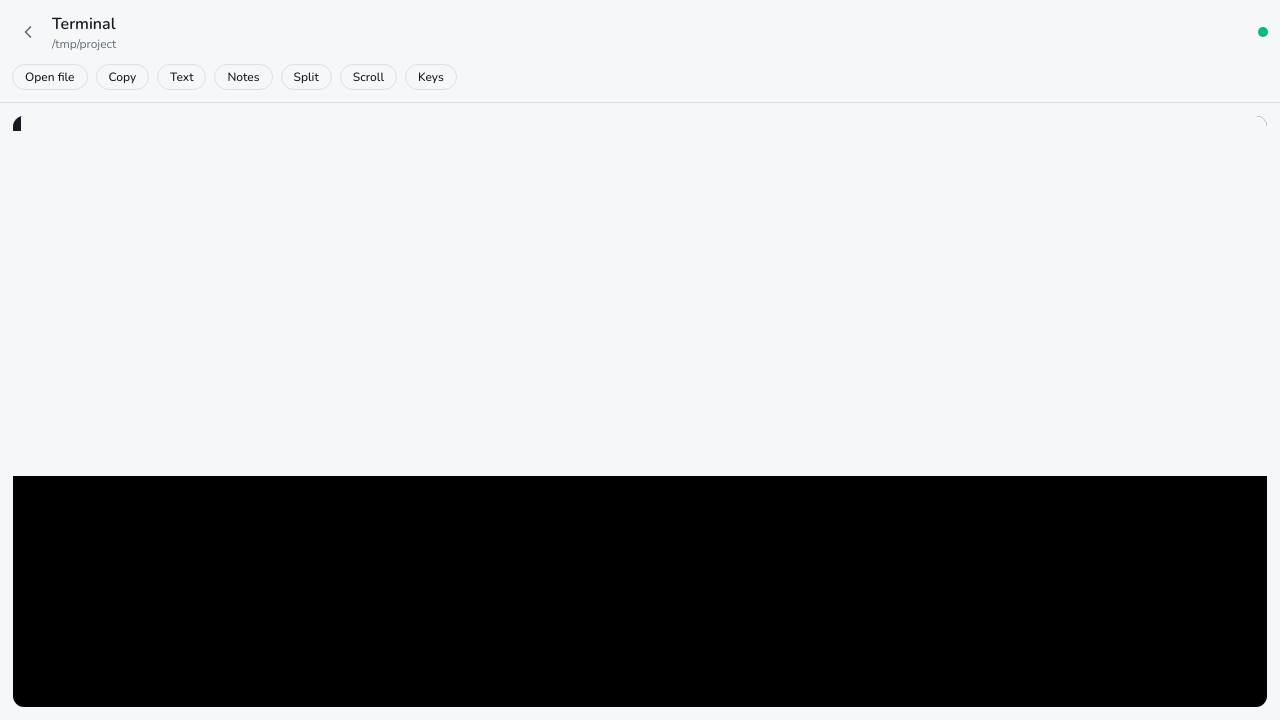
Test: TerminalPage paste behavior › opens manual paste dialog when clipboard read fails
Click the button "Keys".
click(431, 77)  # box x1=405 y1=64 x2=457 y2=90
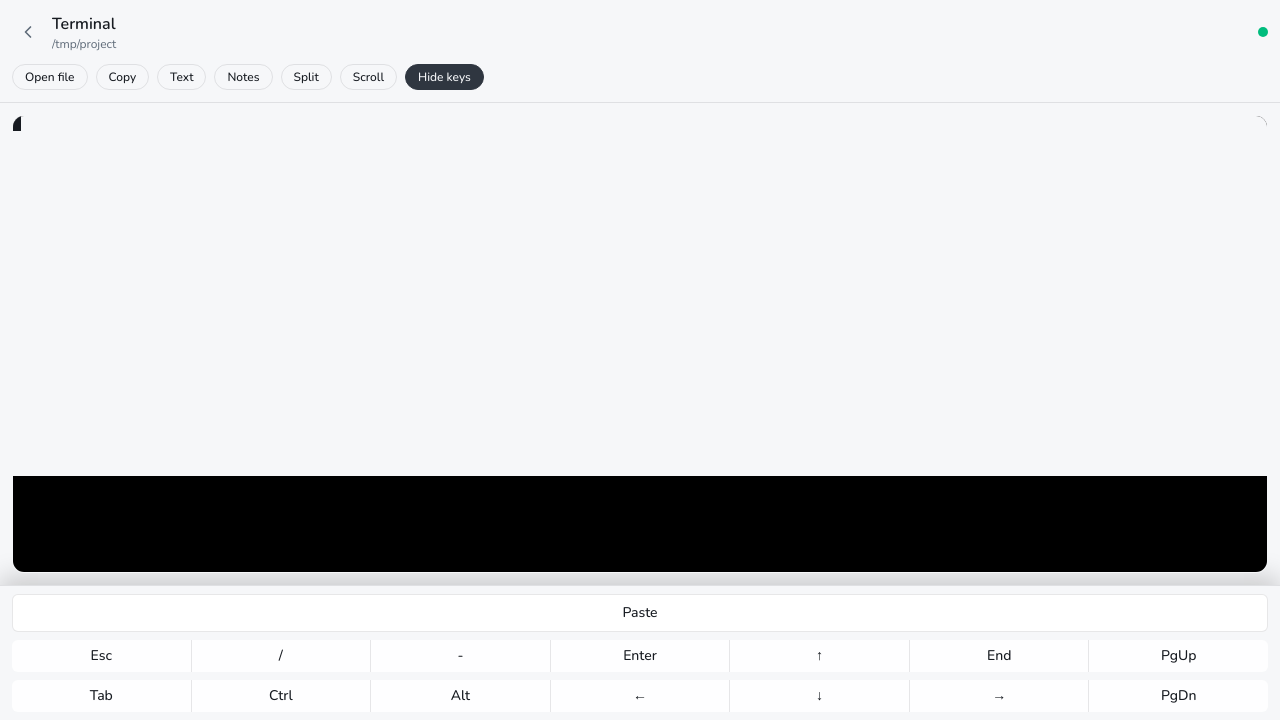
Click the button "Paste".
click(640, 613)  # box x1=12 y1=594 x2=1268 y2=632
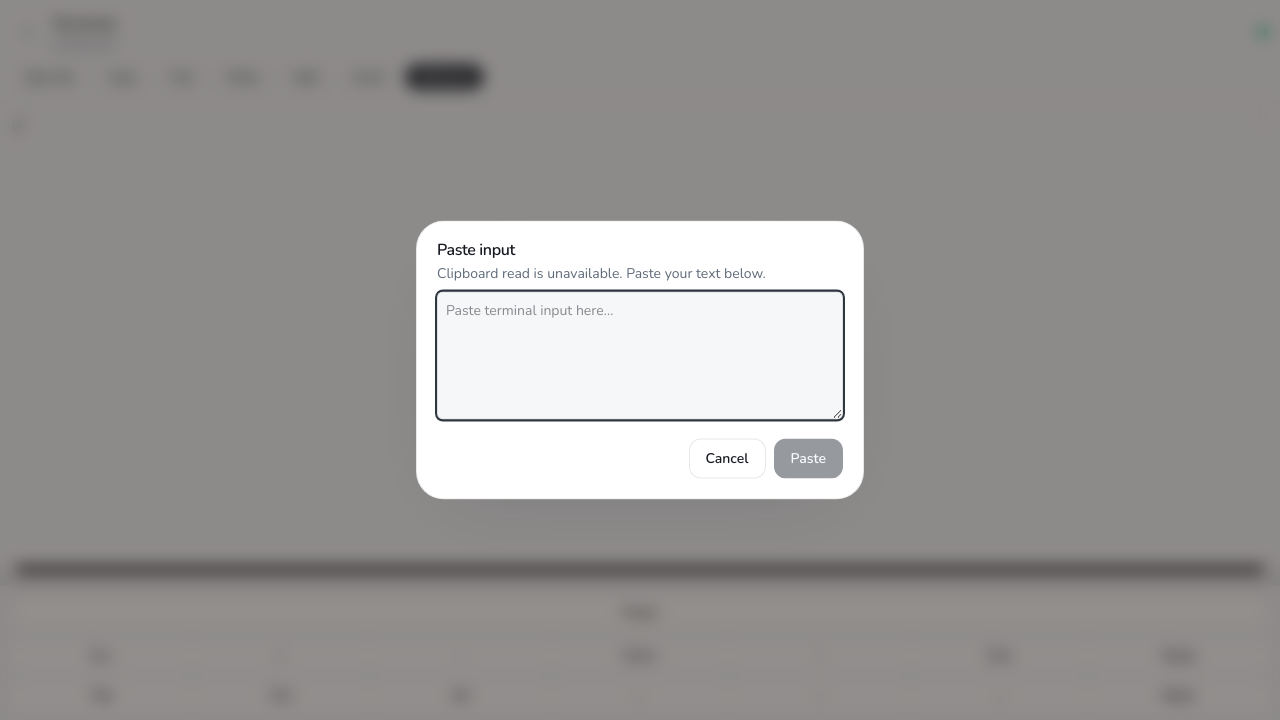
expect the heading "Paste input" is shown: met, box x1=437 y1=238 x2=515 y2=260
